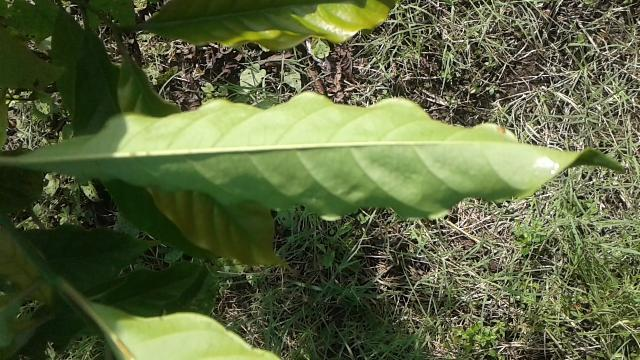healthy: (0, 88, 638, 225)
